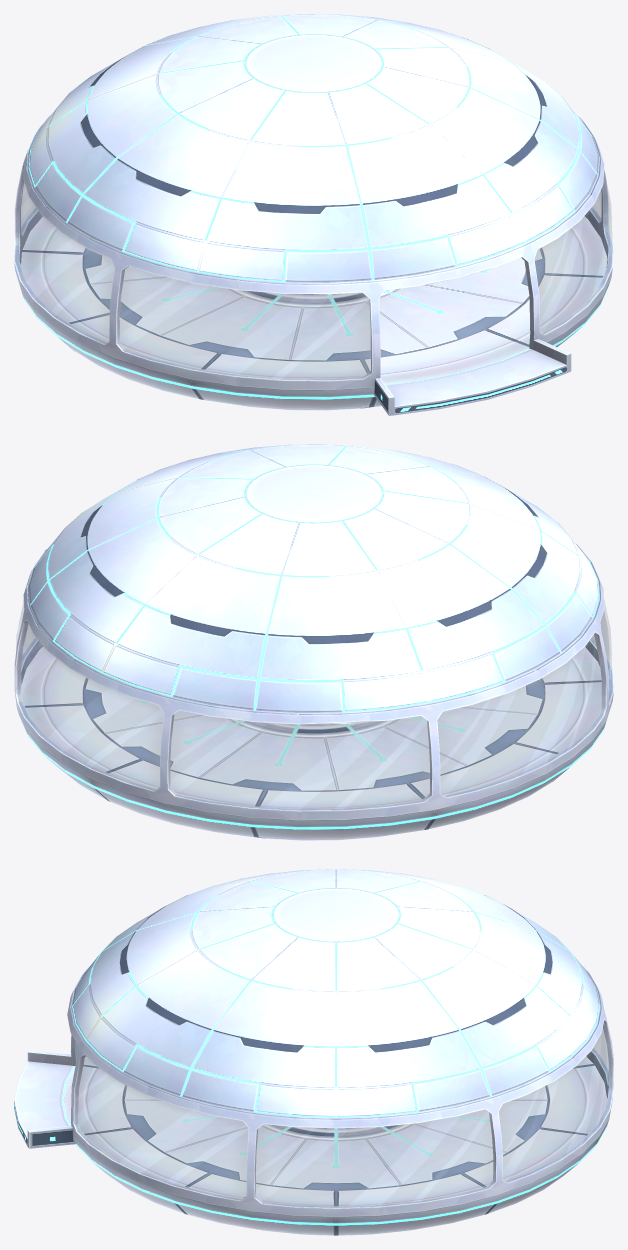
Rendered from obj_room.gltf.
The picture shows the model from 3 angles, top to bottom: view 1: azimuth 30°, elevation 25°; view 2: azimuth 150°, elevation 25°; view 3: azimuth 270°, elevation 25°; orthographic projection. The views are drawn at different scales.
Parts seen in each view (by area): view 1: obj_room; view 2: obj_room; view 3: obj_room.
Boxes of the visible parts, left/top/right/bottom form: obj_room: left=14, top=14, right=613, bottom=415; obj_room: left=14, top=444, right=613, bottom=840; obj_room: left=14, top=869, right=613, bottom=1235.
Size of what is drawn, in the model's own units: 47.31 by 24 by 51.1.
Materials: 10 (10 with a texture image).
